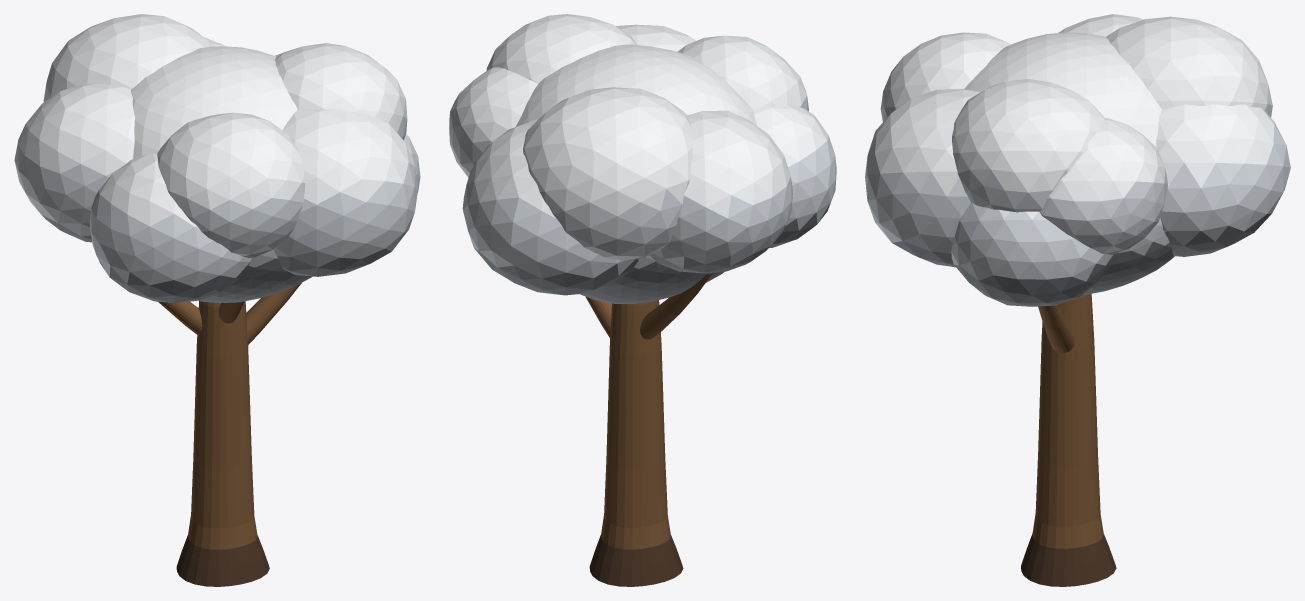
The model's file is BroadleafTree.obj.
3 views of the same model, side by side, from view 1: azimuth 30°, elevation 25°; view 2: azimuth 150°, elevation 25°; view 3: azimuth 270°, elevation 25° (orthographic). The views are drawn at different scales.
Size of the model in its own units: 8.86 by 12.68 by 9.35.
